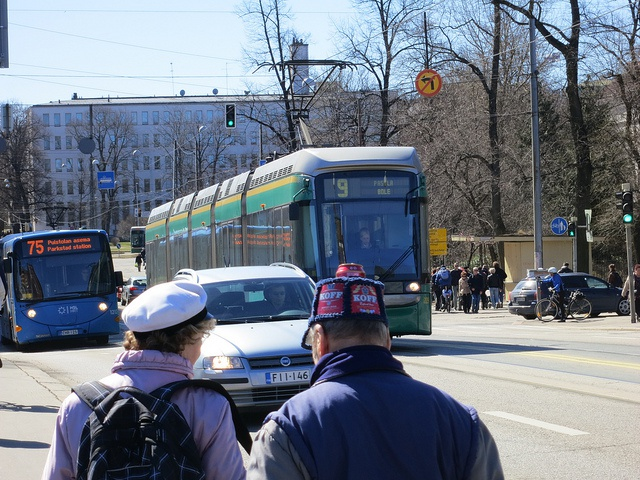non-vehicle: (534, 291, 592, 321), (439, 288, 450, 313)
